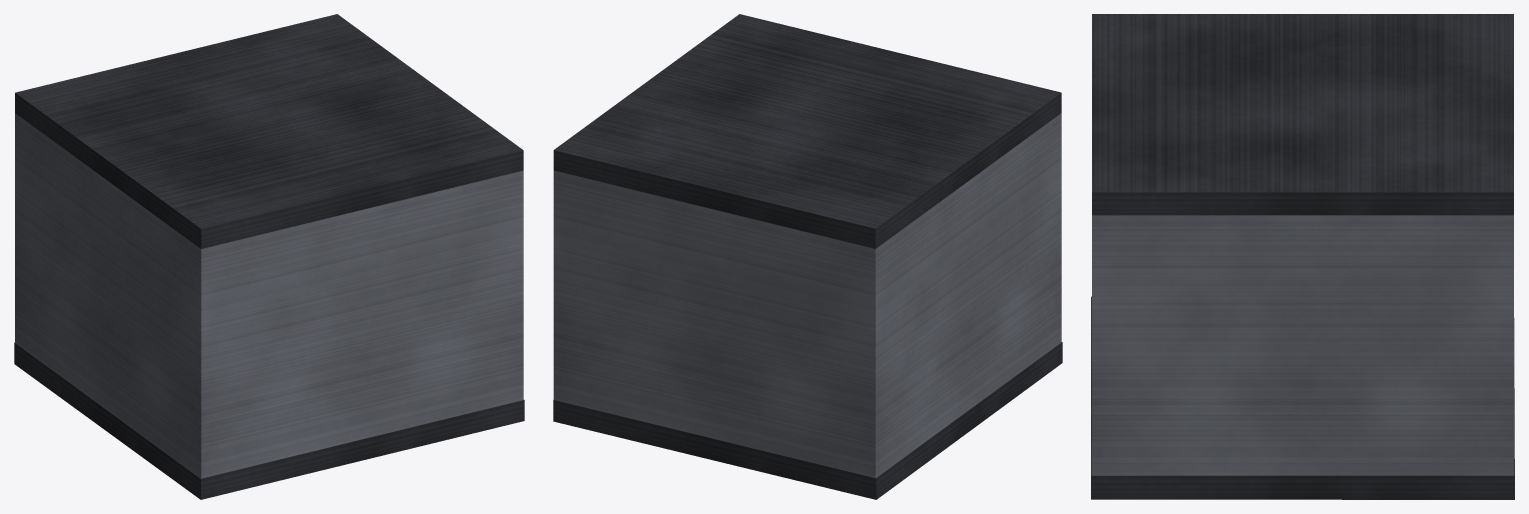
The model's file is CagePedestal.fbx.
3 views of the same model, side by side, from view 1: azimuth 30°, elevation 25°; view 2: azimuth 150°, elevation 25°; view 3: azimuth 270°, elevation 25° (orthographic). The views are drawn at different scales.
Visible parts, largest first — view 1: CagePedestal; view 2: CagePedestal; view 3: CagePedestal.
Boxes of the visible parts, x1=… form: CagePedestal: x1=14, y1=14, x2=524, y2=499; CagePedestal: x1=553, y1=14, x2=1062, y2=499; CagePedestal: x1=1091, y1=14, x2=1514, y2=499.
Size of the model in its own units: 1 by 0.804 by 1.
Materials: 2 (2 with a texture image).
